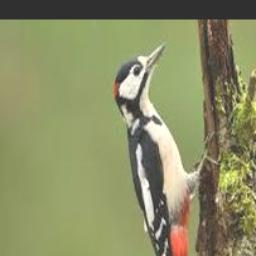Woodpecker: (115, 41, 221, 256)
